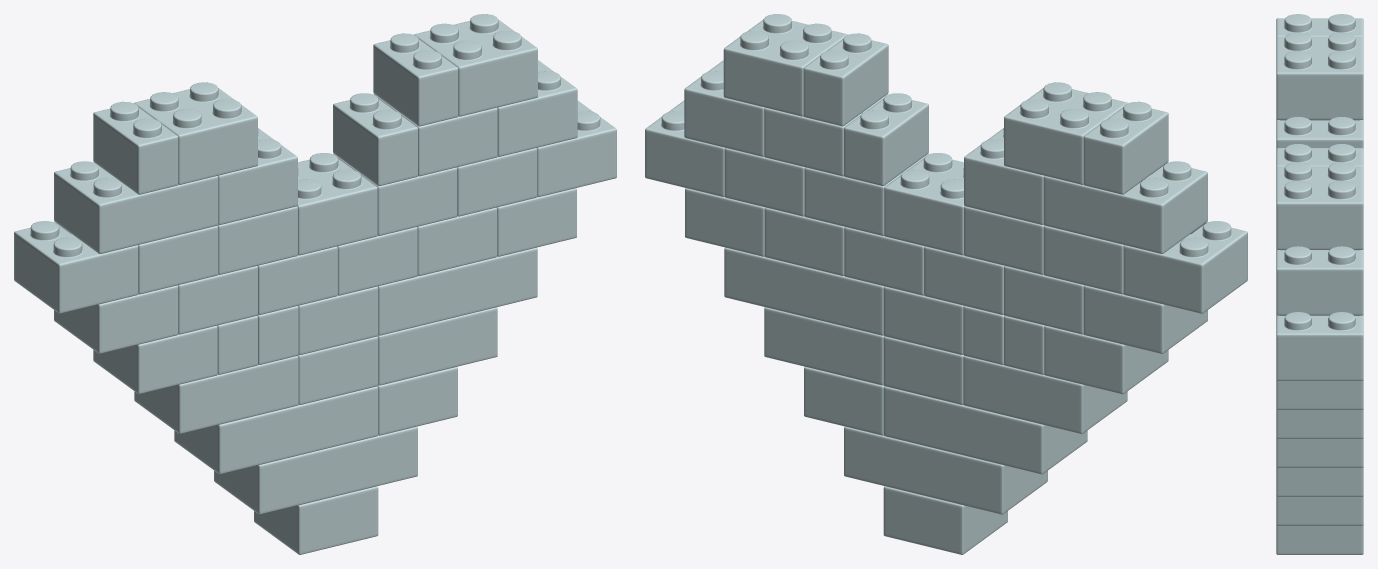
The model's file is heart.gltf.
3 renders of one model, left to right at view 1: azimuth 30°, elevation 25°; view 2: azimuth 150°, elevation 25°; view 3: azimuth 270°, elevation 25°, orthographic. The views are drawn at different scales.
Visible parts, largest first — view 1: icons8_lego_heart; view 2: icons8_lego_heart; view 3: icons8_lego_heart.
Boxes of the visible parts, x1,y1,x2,y2 form: icons8_lego_heart: [14, 14, 616, 554]; icons8_lego_heart: [645, 14, 1247, 554]; icons8_lego_heart: [1276, 14, 1363, 554].
Bounding box in the file's own units: 4.37 × 3.42 × 0.6237.
